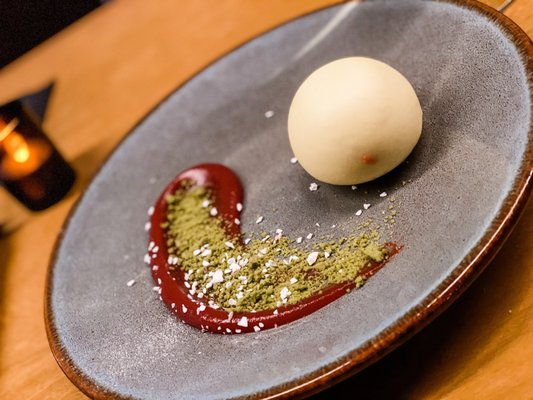steak: (288, 56, 423, 187)
